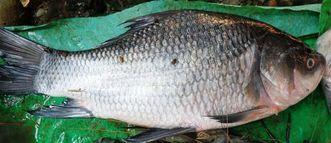Indian Carp: (0, 8, 326, 143)
